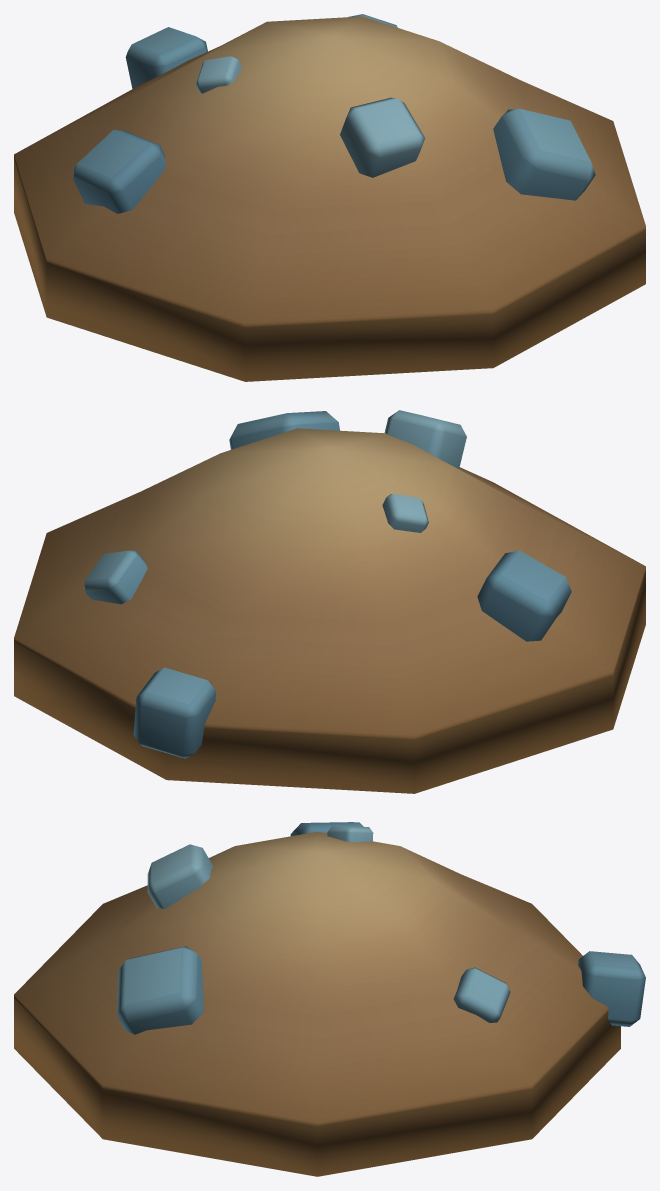
The model's file is earth_pile.fbx.
The picture shows the model from 3 angles, top to bottom: view 1: azimuth 30°, elevation 25°; view 2: azimuth 150°, elevation 25°; view 3: azimuth 270°, elevation 25°; orthographic projection. The views are drawn at different scales.
Visible parts, largest first — view 1: earth_pile; view 2: earth_pile; view 3: earth_pile.
Boxes of the visible parts, x1,y1,x2,y2 form: earth_pile: [14, 14, 645, 381]; earth_pile: [14, 410, 645, 793]; earth_pile: [14, 822, 645, 1176].
Bounding box in the file's own units: 194 × 69.02 × 202.
Materials: 1 (1 with a texture image).
